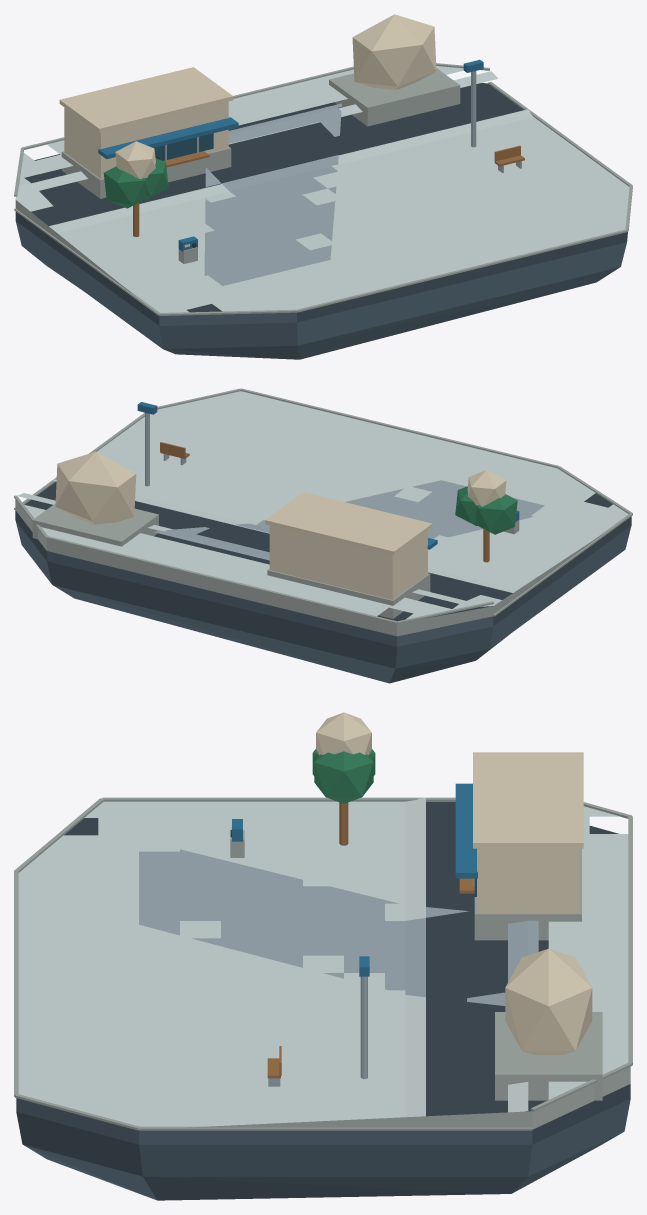
The model's file is fi13-snow-duty.glb.
3 renders of one model, top to bottom at view 1: azimuth 30°, elevation 25°; view 2: azimuth 150°, elevation 25°; view 3: azimuth 270°, elevation 25°, orthographic. The views are drawn at different scales.
Parts seen in each view (by area): view 1: GEO_ground, GEO_foundation, LAND_0_supply, GEO_forecourt, LAND_1_rock, GEO_rim, LAND_3_tree, LAND_2_mast, PROP_bench, PROP_radio; view 2: GEO_ground, GEO_foundation, LAND_0_supply, GEO_rim, LAND_1_rock, GEO_forecourt, LAND_3_tree, LAND_2_mast; view 3: GEO_ground, GEO_foundation, GEO_forecourt, LAND_0_supply, LAND_1_rock, GEO_rim, LAND_3_tree, LAND_2_mast.
Boxes of the visible parts, box(x1,y1,x2,y2) form: GEO_ground: box(15, 66, 629, 312); GEO_foundation: box(15, 83, 627, 359); LAND_0_supply: box(59, 67, 238, 198); GEO_forecourt: box(204, 103, 341, 285); LAND_1_rock: box(329, 14, 460, 126); GEO_rim: box(14, 63, 632, 315); LAND_3_tree: box(103, 141, 168, 236); LAND_2_mast: box(463, 59, 483, 147); PROP_bench: box(494, 145, 524, 172); PROP_radio: box(178, 236, 197, 263); GEO_ground: box(17, 391, 628, 619); GEO_foundation: box(15, 481, 631, 683); LAND_0_supply: box(265, 492, 437, 618); GEO_rim: box(14, 388, 632, 636); LAND_1_rock: box(32, 451, 158, 546); GEO_forecourt: box(154, 480, 544, 560); LAND_3_tree: box(455, 470, 517, 562); LAND_2_mast: box(137, 402, 157, 486); GEO_ground: box(18, 797, 628, 1126); GEO_foundation: box(16, 802, 630, 1200); GEO_forecourt: box(139, 849, 538, 1005); LAND_0_supply: box(455, 752, 583, 940); LAND_1_rock: box(495, 948, 602, 1100); GEO_rim: box(14, 797, 632, 1130); LAND_3_tree: box(312, 712, 375, 845); LAND_2_mast: box(359, 956, 369, 1078).
Size of the model in its own units: 38.22 by 11.8 by 30.22.
